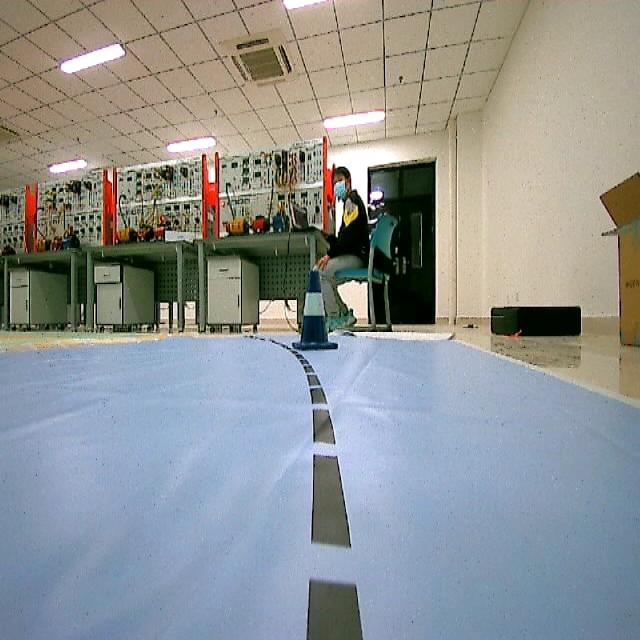obstacle: (299, 270, 340, 351)
